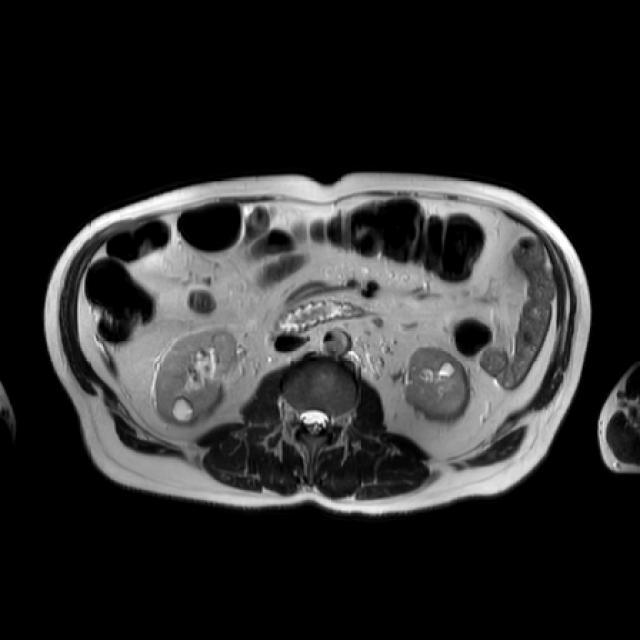sag: (152, 327, 239, 428)
sol: (402, 346, 471, 424)
